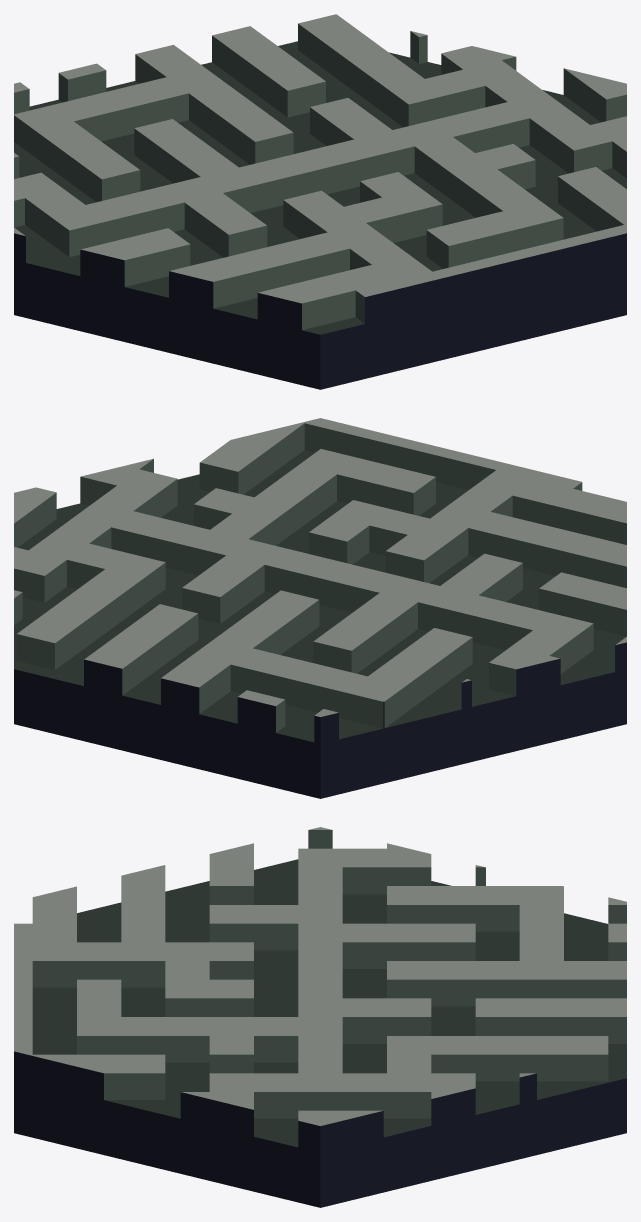
The model's file is SM_Secret_05.fbx.
3 renders of one model, top to bottom at view 1: azimuth 30°, elevation 25°; view 2: azimuth 150°, elevation 25°; view 3: azimuth 270°, elevation 25°, orthographic.
Visible parts, largest first — view 1: SM_Secret_05; view 2: SM_Secret_05; view 3: SM_Secret_05.
Part boxes in pixels (bbox=[...]): SM_Secret_05: bbox=[14, 14, 626, 389]; SM_Secret_05: bbox=[14, 418, 626, 798]; SM_Secret_05: bbox=[14, 827, 626, 1207].
Size of the model in its own units: 47.94 by 6.11 by 41.52.
1 material, 1 textured.
